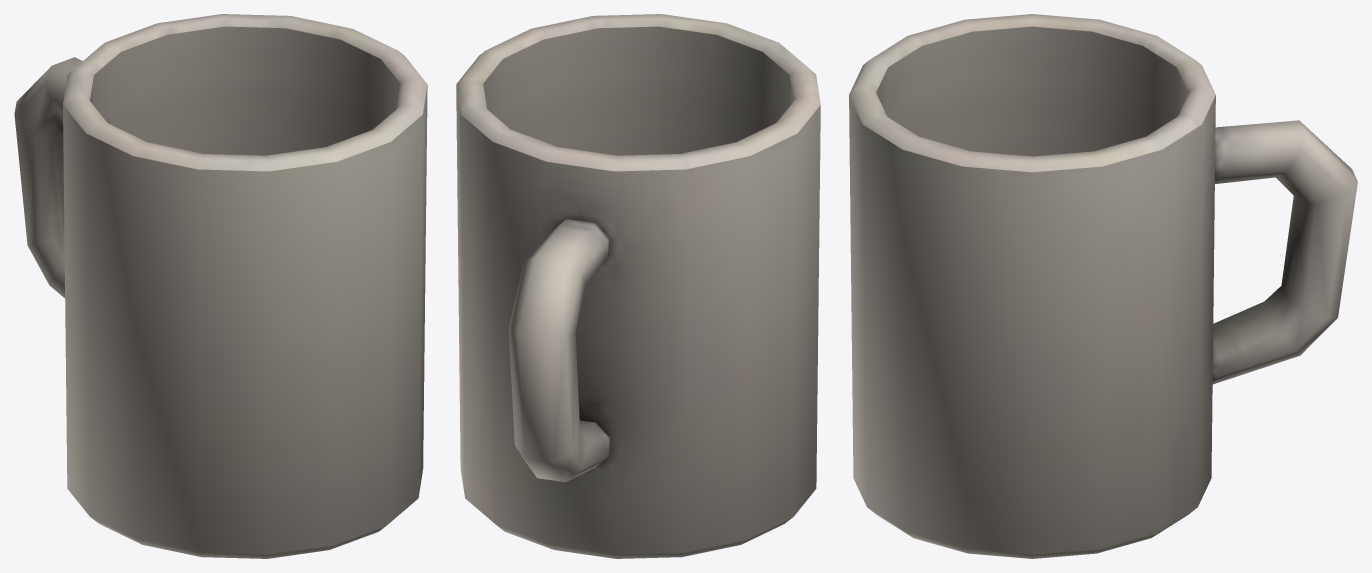
The picture shows the model from 3 angles, left to right: view 1: azimuth 30°, elevation 25°; view 2: azimuth 150°, elevation 25°; view 3: azimuth 270°, elevation 25°; orthographic projection.
Parts seen in each view (by area): view 1: body0_model0_lod0_mesh0; view 2: body0_model0_lod0_mesh0; view 3: body0_model0_lod0_mesh0.
Part boxes in pixels (bbox=[...]): body0_model0_lod0_mesh0: bbox=[14, 14, 427, 558]; body0_model0_lod0_mesh0: bbox=[456, 14, 820, 558]; body0_model0_lod0_mesh0: bbox=[849, 14, 1357, 558].
Size of the model in its own units: 5.28 by 6.33 by 7.32.
Materials: 1 (1 with a texture image).
